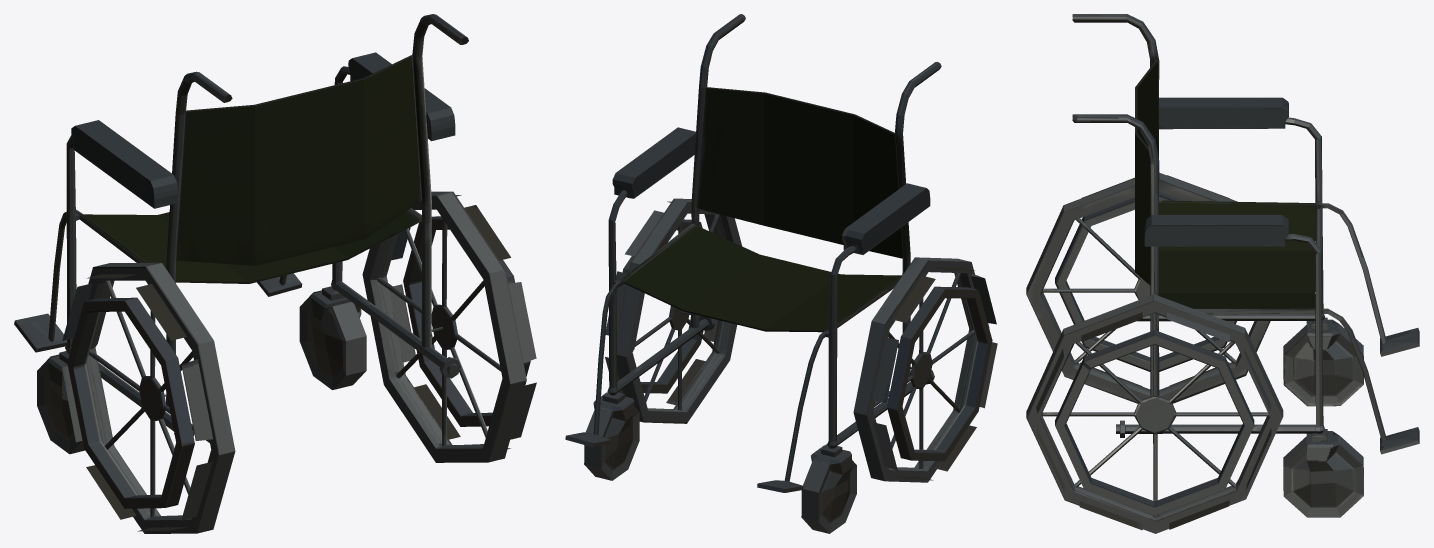
Rendered from cadeira_de_rodas_1 1.fbx.
3 views of the same model, side by side, from view 1: azimuth 30°, elevation 25°; view 2: azimuth 150°, elevation 25°; view 3: azimuth 270°, elevation 25° (orthographic). The views are drawn at different scales.
Parts seen in each view (by area): view 1: cadeira de rodas; view 2: cadeira de rodas; view 3: cadeira de rodas.
Part boxes in pixels (x1,y1,x2,y2): cadeira de rodas: (14, 14, 536, 533); cadeira de rodas: (565, 14, 997, 533); cadeira de rodas: (1026, 14, 1419, 533).
Size of the model in its own units: 185 by 235 by 207.
1 material, 1 textured.
